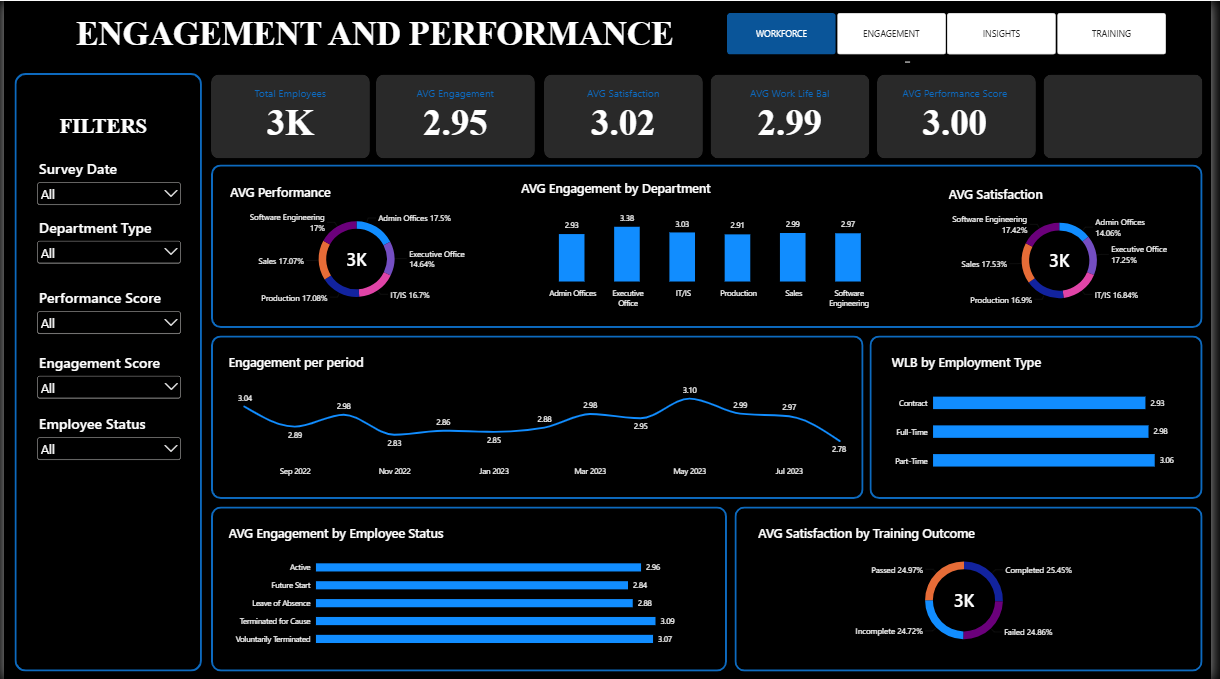

What the dashboard file says about the page in this screenshot:
{"tool":"powerbi","page":{"name":"ENGAGEMENT","canvas":[1920,1080],"ordinal":1},"visuals":[{"type":"shape","box":[1.7,9.5,1918.3,93.1],"z":0},{"type":"group","id":"g1","title":"Group 2","box":[329.3,116.9,1577.1,133.6],"z":0,"group":"g4"},{"type":"textbox","title":"ENGAGEMENT AND PERFORMANCE","box":[114.5,21.5,1326.6,76.3],"z":1000},{"type":"shape","box":[16.7,114.5,298.2,952],"z":2000},{"type":"group","id":"g2","title":"Group 3","box":[47.5,249.5,238.6,496.1],"z":3000},{"type":"textbox","title":"FILTERS","box":[88.3,178.9,150.3,45.3],"z":4000},{"type":"slicer","fields":{"Values":["Employee_Data_Combined_and_Cleaned.Survey Date"]},"box":[47.7,249.5,238.1,90.7],"z":4000,"group":"g2"},{"type":"shape","box":[329.3,116.9,304.2,133.6],"z":5000,"group":"g3"},{"type":"slicer","fields":{"Values":["Employee_Data_Combined_and_Cleaned.Department Type"]},"box":[47.7,343,238.1,90.7],"z":5000,"group":"g2"},{"type":"shape","box":[329.3,804.1,820.8,262.5],"z":5000},{"type":"cardVisual","fields":{"Data":["Count(Employee_Data_Combined_and_Cleaned.Employee ID)"]},"box":[340.8,119.3,281.3,126.5],"z":6000,"group":"g5"},{"type":"shape","box":[329.3,260.1,1577.1,260.1],"z":6000},{"type":"slicer","fields":{"Values":["Employee_Data_Combined_and_Cleaned.Performance Score"]},"box":[47.7,453.6,238.1,90.7],"z":6000,"group":"g2"},{"type":"shape","box":[644.7,116.9,304.2,133.6],"z":7000,"group":"g3"},{"type":"cardVisual","fields":{"Data":["Avg(Employee_Data_Combined_and_Cleaned.Engagement Score)"]},"box":[656.5,119.3,281.3,126.5],"z":7000,"group":"g5"},{"type":"shape","box":[329.3,532.1,1037.9,260.1],"z":7000},{"type":"slicer","fields":{"Values":["Employee_Data_Combined_and_Cleaned.Engagement Score"]},"box":[47.5,558.4,238.6,78.7],"z":7000,"group":"g2"},{"type":"shape","box":[965.8,116.9,304.2,133.6],"z":8000,"group":"g3"},{"type":"cardVisual","fields":{"Data":["Avg(Employee_Data_Combined_and_Cleaned.Satisfaction Score)"]},"box":[978,119.3,281.3,126.5],"z":8000,"group":"g5"},{"type":"shape","box":[1376.7,532.1,529.7,260.1],"z":8000},{"type":"slicer","fields":{"Values":["Employee_Data_Combined_and_Cleaned.Employee Status"]},"box":[47.7,654.9,238.1,90.7],"z":8000,"group":"g2"},{"type":"shape","box":[1284,116.9,304.2,133.6],"z":9000,"group":"g3"},{"type":"cardVisual","fields":{"Data":["Avg(Employee_Data_Combined_and_Cleaned.Work Life Balance Score)"]},"box":[1296.6,119.3,281.3,126.5],"z":9000,"group":"g5"},{"type":"shape","box":[1161.9,804.1,744.4,262.5],"z":9000},{"type":"shape","box":[1602.2,116.9,304.2,133.6],"z":10000,"group":"g3"},{"type":"cardVisual","fields":{"Data":["Avg(Employee_Data_Combined_and_Cleaned.Performance Score)"]},"box":[1612.3,119.3,281.3,126.5],"z":10000,"group":"g5"},{"type":"lineChart","title":"Engagement per period","fields":{"Category":["Employee_Data_Combined_and_Cleaned.Survey Date.Variation.Date Hierarchy.Year","Employee_Data_Combined_and_Cleaned.Survey Date.Variation.Date Hierarchy.Month"],"Y":["Avg(Employee_Data_Combined_and_Cleaned.Engagement Score)"]},"box":[341.2,546.4,1025.9,231.4],"z":10000},{"type":"barChart","title":"WLB by Employment Type","fields":{"Category":["Employee_Data_Combined_and_Cleaned.Employee Type"],"Y":["Avg(Employee_Data_Combined_and_Cleaned.Work Life Balance Score)"]},"box":[1395.8,546.4,501,231.4],"z":11000},{"type":"group","id":"g3","title":"Group 1","box":[329.3,116.9,1577.1,133.6],"z":11001,"group":"g1"},{"type":"donutChart","title":"AVG Satisfaction by Training Outcome","fields":{"Category":["Employee_Data_Combined_and_Cleaned.Training Outcome"],"Y":["Avg(Employee_Data_Combined_and_Cleaned.Satisfaction Score)"]},"box":[1183.4,818.4,687.1,229],"z":12000},{"type":"clusteredBarChart","title":"AVG Engagement by Employee Status","fields":{"Category":["Employee_Data_Combined_and_Cleaned.Employee Status"],"Y":["Avg(Employee_Data_Combined_and_Cleaned.Employee_Rating)"]},"box":[341.2,818.4,782.6,231.4],"z":13000},{"type":"donutChart","title":"AVG Satisfaction","fields":{"Category":["Employee_Data_Combined_and_Cleaned.Department Type"],"Y":["Avg(Employee_Data_Combined_and_Cleaned.Satisfaction Score)"]},"box":[1486.4,279.2,384.1,226.7],"z":14000},{"type":"columnChart","title":"AVG Engagement by Department","fields":{"Category":["Employee_Data_Combined_and_Cleaned.Department Type"],"Y":["Avg(Employee_Data_Combined_and_Cleaned.Engagement Score)"]},"box":[806.4,269.6,610.8,238.6],"z":15000},{"type":"bookmarkNavigator","box":[1150,19.1,701.5,66.8],"z":16000},{"type":"donutChart","title":"AVG Performance ","fields":{"Category":["Employee_Data_Combined_and_Cleaned.Department Type"],"Y":["Avg(Employee_Data_Combined_and_Cleaned.Performance Score)"]},"box":[343.6,276.8,434.2,226.7],"z":17000},{"type":"group","id":"g4","title":"Group 5","box":[329.3,116.9,1577.1,133.6],"z":18000},{"type":"group","id":"g5","title":"Group 4","box":[340.8,119.3,1552.8,126.5],"z":27001,"group":"g4"}]}

Visuals, with their boxes in screenshot pixels (x1, y1, x2, y2), scaled from the page's 1920x1080 canvas onto the 1220x679 screenshot:
shape: BBox(1, 6, 1219, 65)
"Group 2" group: BBox(209, 73, 1211, 157)
"ENGAGEMENT AND PERFORMANCE" textbox: BBox(73, 14, 916, 61)
shape: BBox(11, 72, 200, 671)
"Group 3" group: BBox(30, 157, 182, 469)
"FILTERS" textbox: BBox(56, 112, 152, 141)
slicer - Employee_Data_Combined_and_Cleaned.Survey Date: BBox(30, 157, 182, 214)
shape: BBox(209, 73, 403, 157)
slicer - Employee_Data_Combined_and_Cleaned.Department Type: BBox(30, 216, 182, 273)
shape: BBox(209, 506, 731, 671)
cardVisual - Count(Employee_Data_Combined_and_Cleaned.Employee ID): BBox(217, 75, 395, 155)
shape: BBox(209, 164, 1211, 327)
slicer - Employee_Data_Combined_and_Cleaned.Performance Score: BBox(30, 285, 182, 342)
shape: BBox(410, 73, 603, 157)
cardVisual - Avg(Employee_Data_Combined_and_Cleaned.Engagement Score): BBox(417, 75, 596, 155)
shape: BBox(209, 335, 869, 498)
slicer - Employee_Data_Combined_and_Cleaned.Engagement Score: BBox(30, 351, 182, 401)
shape: BBox(614, 73, 807, 157)
cardVisual - Avg(Employee_Data_Combined_and_Cleaned.Satisfaction Score): BBox(621, 75, 800, 155)
shape: BBox(875, 335, 1211, 498)
slicer - Employee_Data_Combined_and_Cleaned.Employee Status: BBox(30, 412, 182, 469)
shape: BBox(816, 73, 1009, 157)
cardVisual - Avg(Employee_Data_Combined_and_Cleaned.Work Life Balance Score): BBox(824, 75, 1003, 155)
shape: BBox(738, 506, 1211, 671)
shape: BBox(1018, 73, 1211, 157)
cardVisual - Avg(Employee_Data_Combined_and_Cleaned.Performance Score): BBox(1024, 75, 1203, 155)
"Engagement per period" lineChart: BBox(217, 344, 869, 489)
"WLB by Employment Type" barChart: BBox(887, 344, 1205, 489)
"Group 1" group: BBox(209, 73, 1211, 157)
"AVG Satisfaction by Training Outcome" donutChart: BBox(752, 515, 1189, 659)
"AVG Engagement by Employee Status" clusteredBarChart: BBox(217, 515, 714, 660)
"AVG Satisfaction" donutChart: BBox(944, 176, 1189, 318)
"AVG Engagement by Department" columnChart: BBox(512, 169, 901, 320)
bookmarkNavigator: BBox(731, 12, 1176, 54)
"AVG Performance " donutChart: BBox(218, 174, 494, 317)
"Group 5" group: BBox(209, 73, 1211, 157)
"Group 4" group: BBox(217, 75, 1203, 155)
